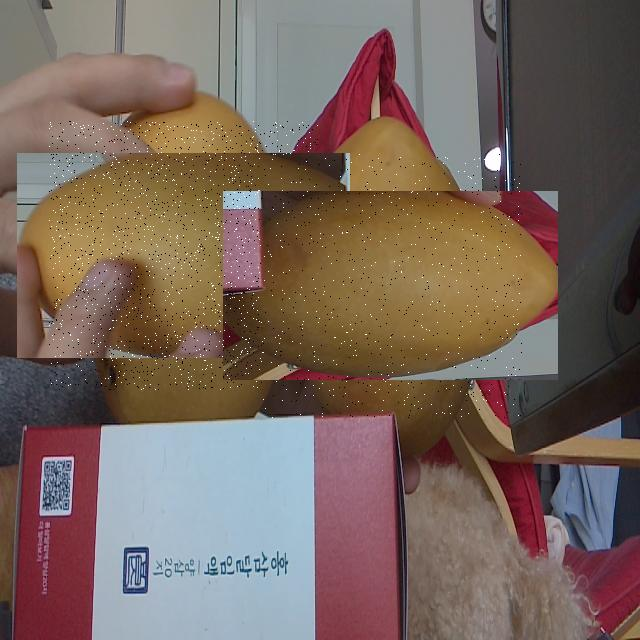pear: (49, 121, 319, 390), (259, 154, 522, 418)
